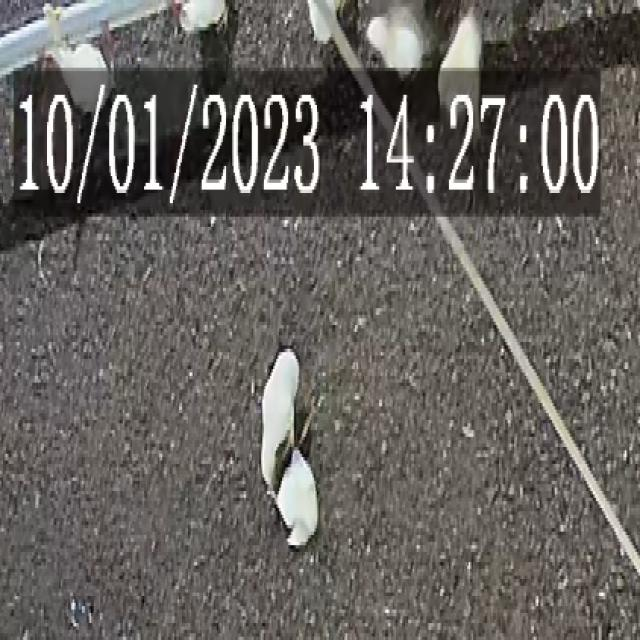broiler: (261, 349, 299, 494), (438, 10, 481, 135), (365, 3, 428, 71), (276, 447, 317, 545), (49, 44, 108, 108), (180, 0, 224, 30)
pipe: (59, 0, 159, 37), (0, 17, 50, 71)
